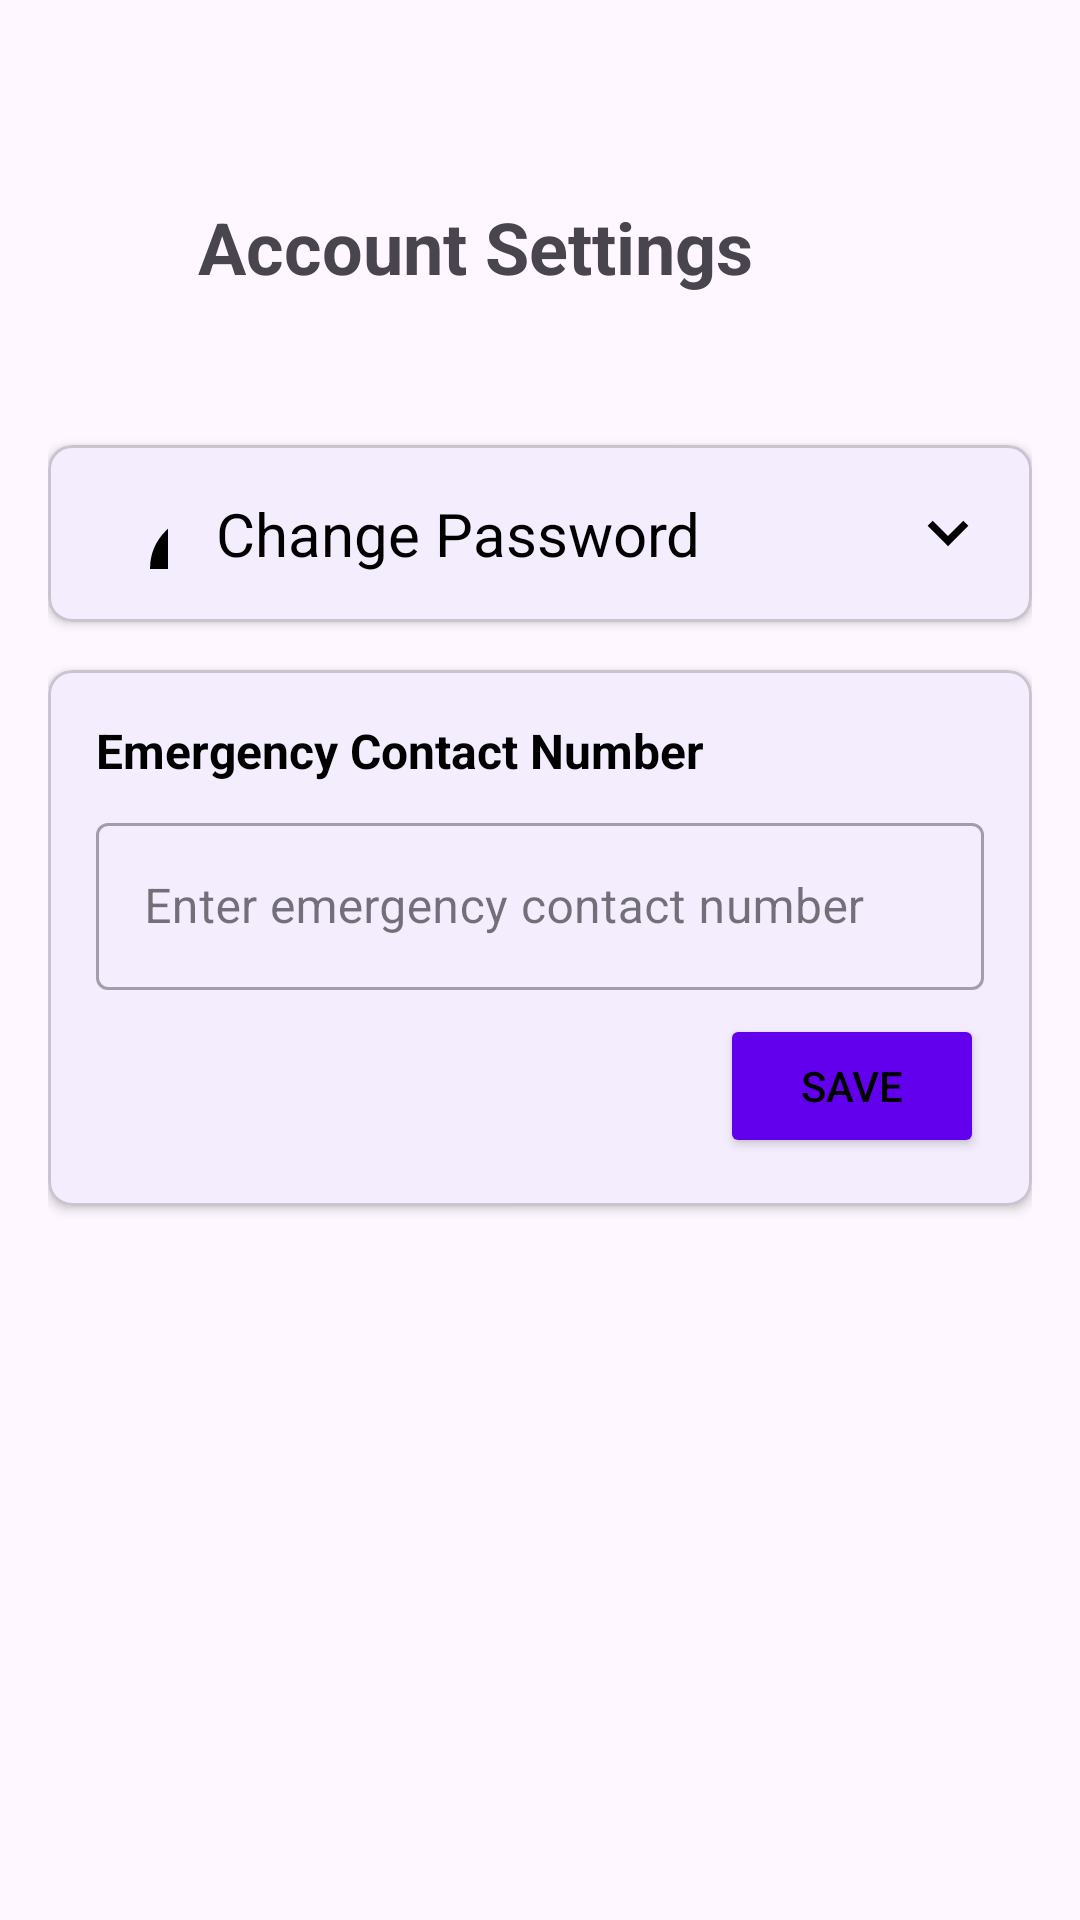

Icons on this 1080px x 1920px Android screen, each with the point to tap as [x,y]:
expand more: [948,533]
